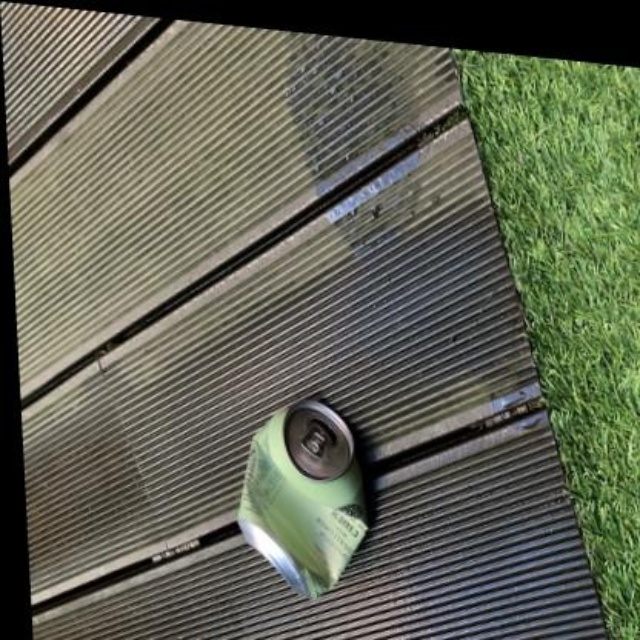trash: (237, 400, 366, 595)
